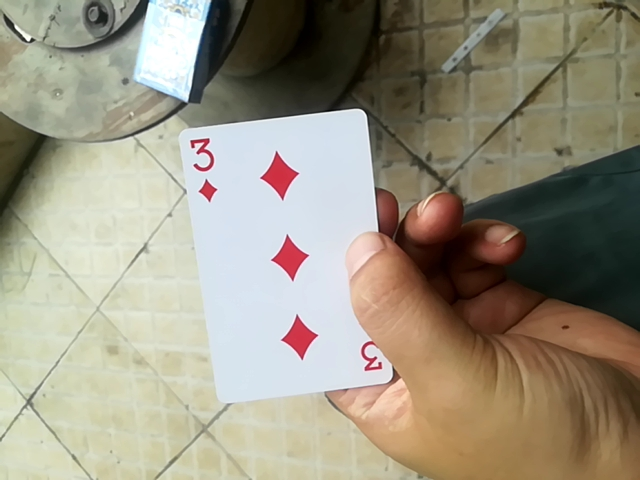fk 3: (180, 110, 387, 403)
